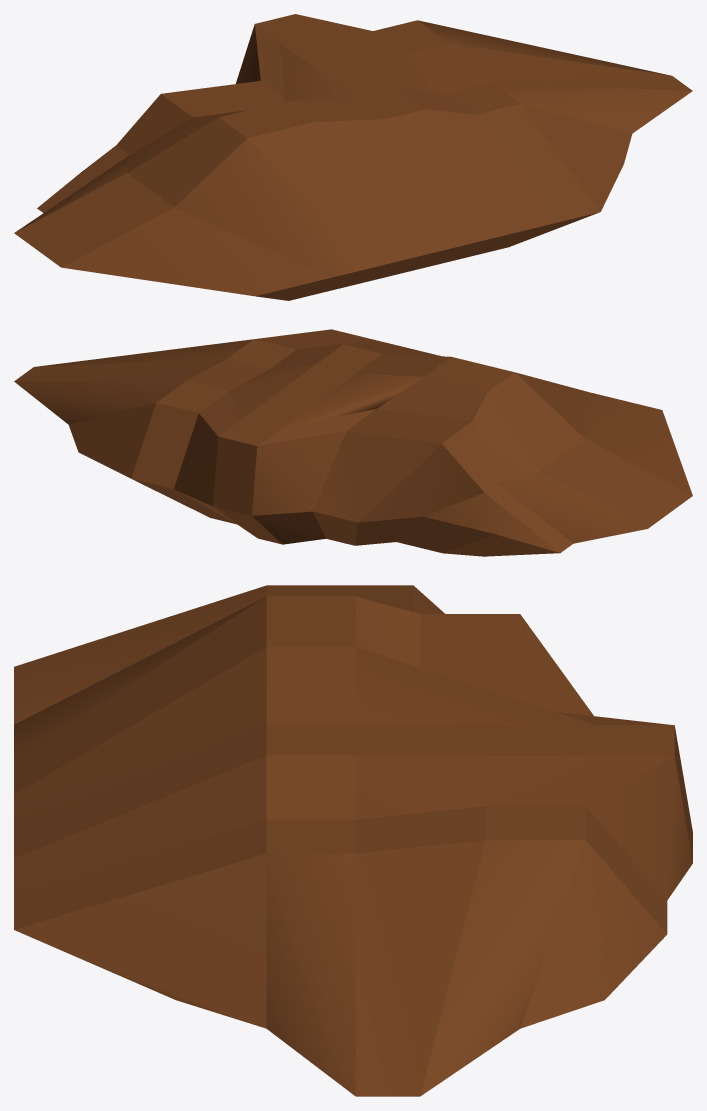
Rendered from Island.fbx.
3 renders of one model, top to bottom at view 1: azimuth 30°, elevation 25°; view 2: azimuth 150°, elevation 25°; view 3: azimuth 270°, elevation 25°, orthographic. The views are drawn at different scales.
Parts seen in each view (by area): view 1: Island; view 2: Island; view 3: Island.
Part boxes in pixels (box(x1,y1,x2,y2)): Island: box(14, 14, 692, 300); Island: box(14, 329, 692, 556); Island: box(14, 585, 692, 1096).
Size of the model in its own units: 6242 by 1270 by 3563.
